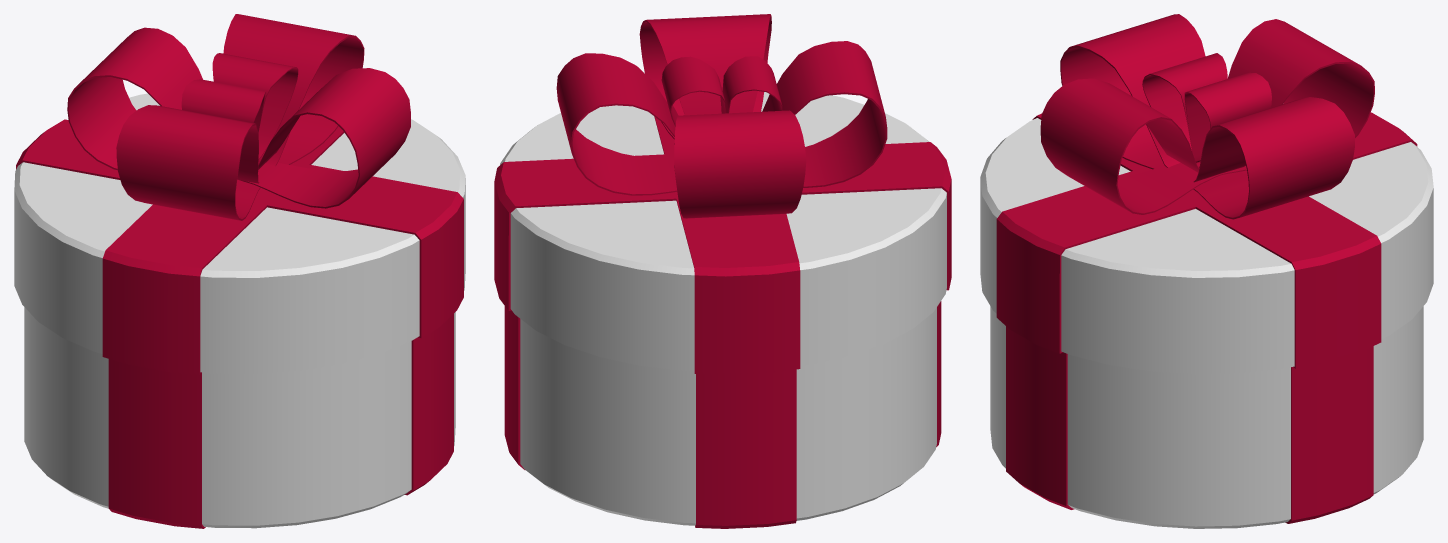
Rendered from Present_02.glb.
The picture shows the model from 3 angles, left to right: view 1: azimuth 30°, elevation 25°; view 2: azimuth 150°, elevation 25°; view 3: azimuth 270°, elevation 25°; orthographic projection.
Parts seen in each view (by area): view 1: Present5; view 2: Present5; view 3: Present5.
Part boxes in pixels (left/top/right/bottom): Present5: left=14, top=14, right=465, bottom=528; Present5: left=494, top=14, right=951, bottom=528; Present5: left=980, top=14, right=1433, bottom=528.
Size of the model in its own units: 0.3136 by 0.283 by 0.3136.
